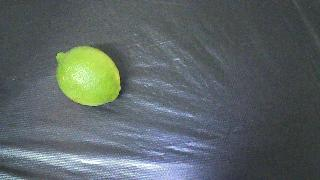LOCAL: (56, 46, 121, 106)
